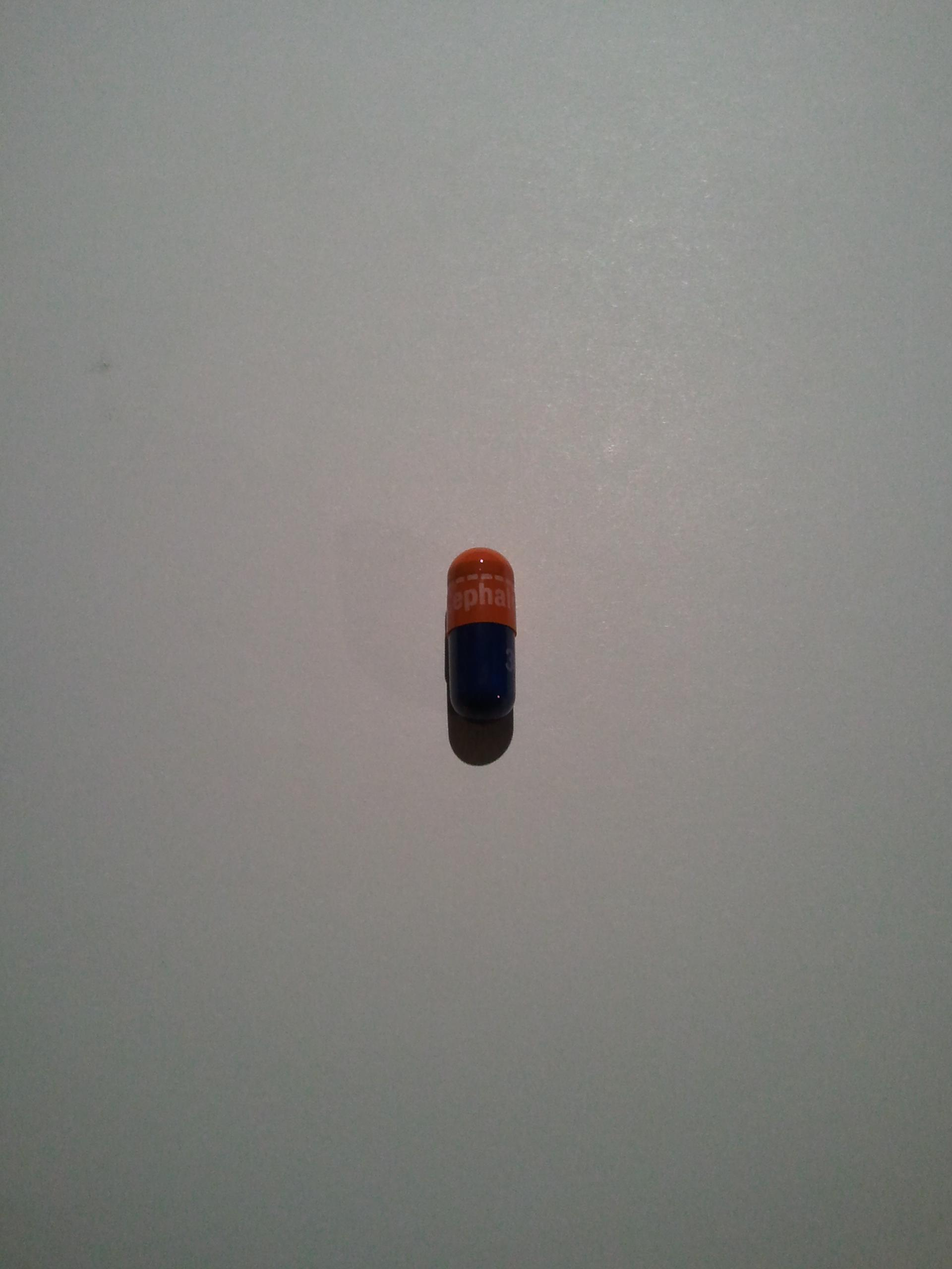Pill: (421, 530, 534, 790)
